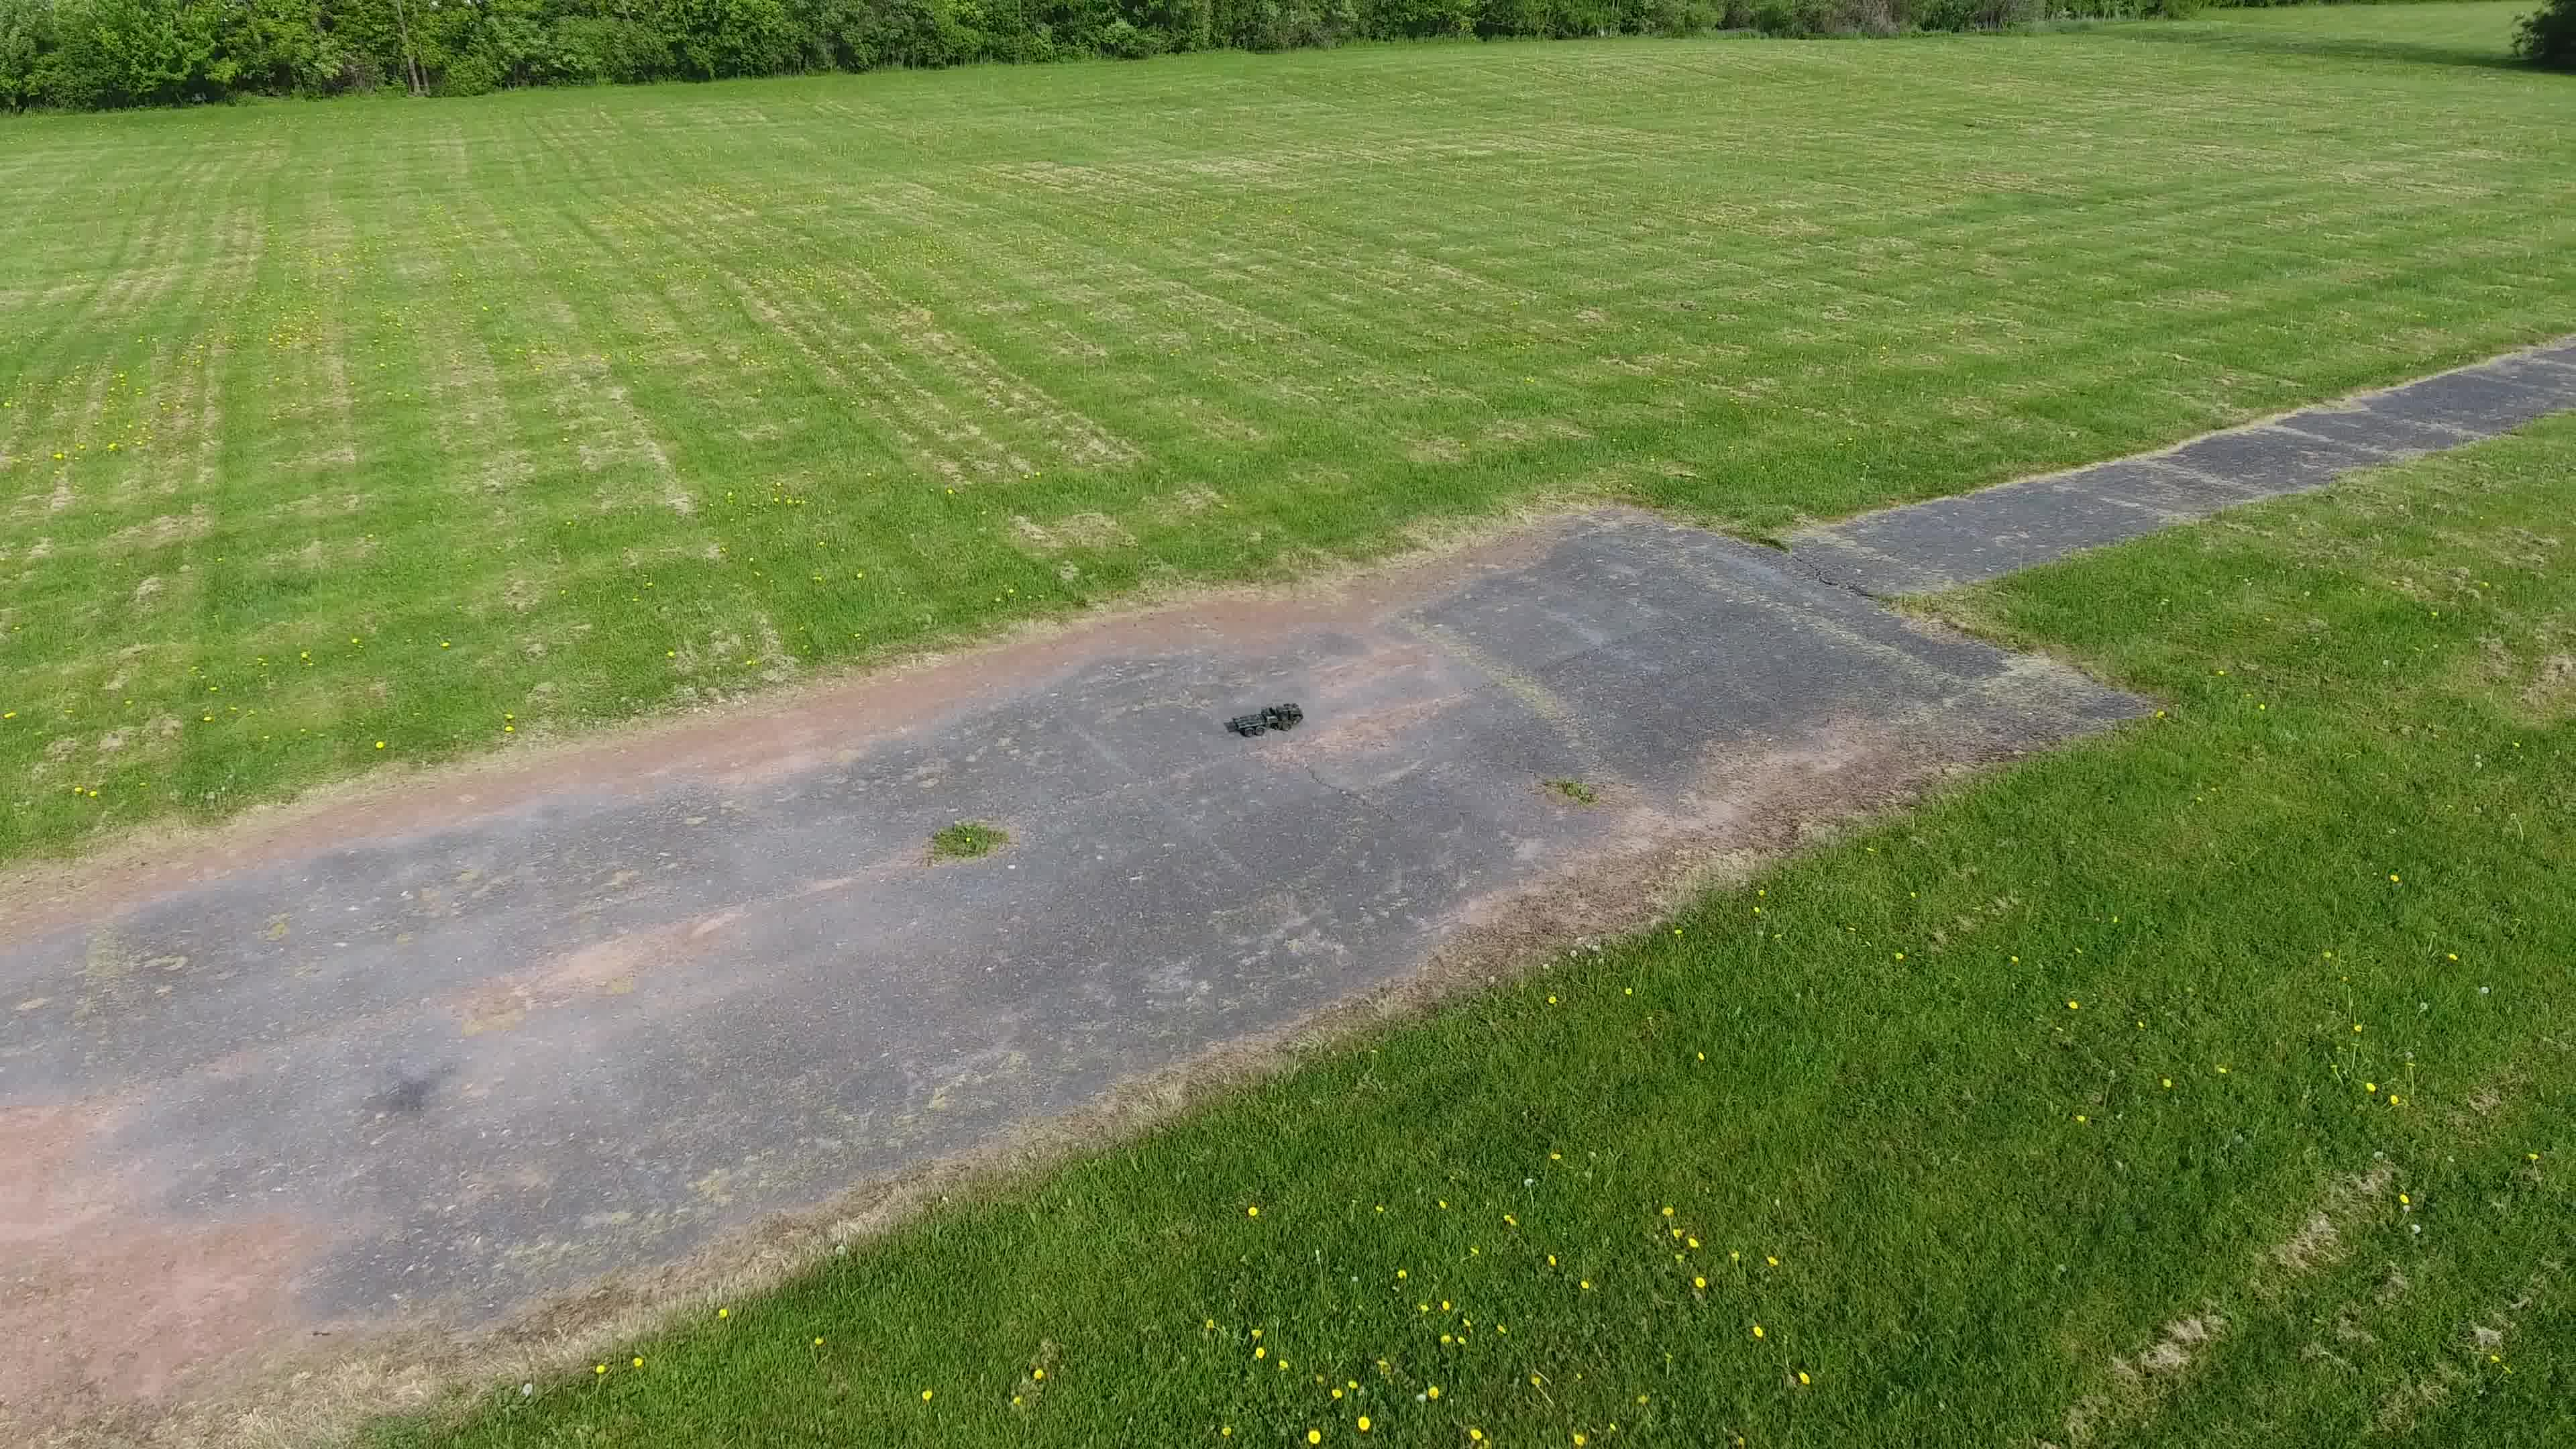transporter9: (1228, 699, 1306, 740)
